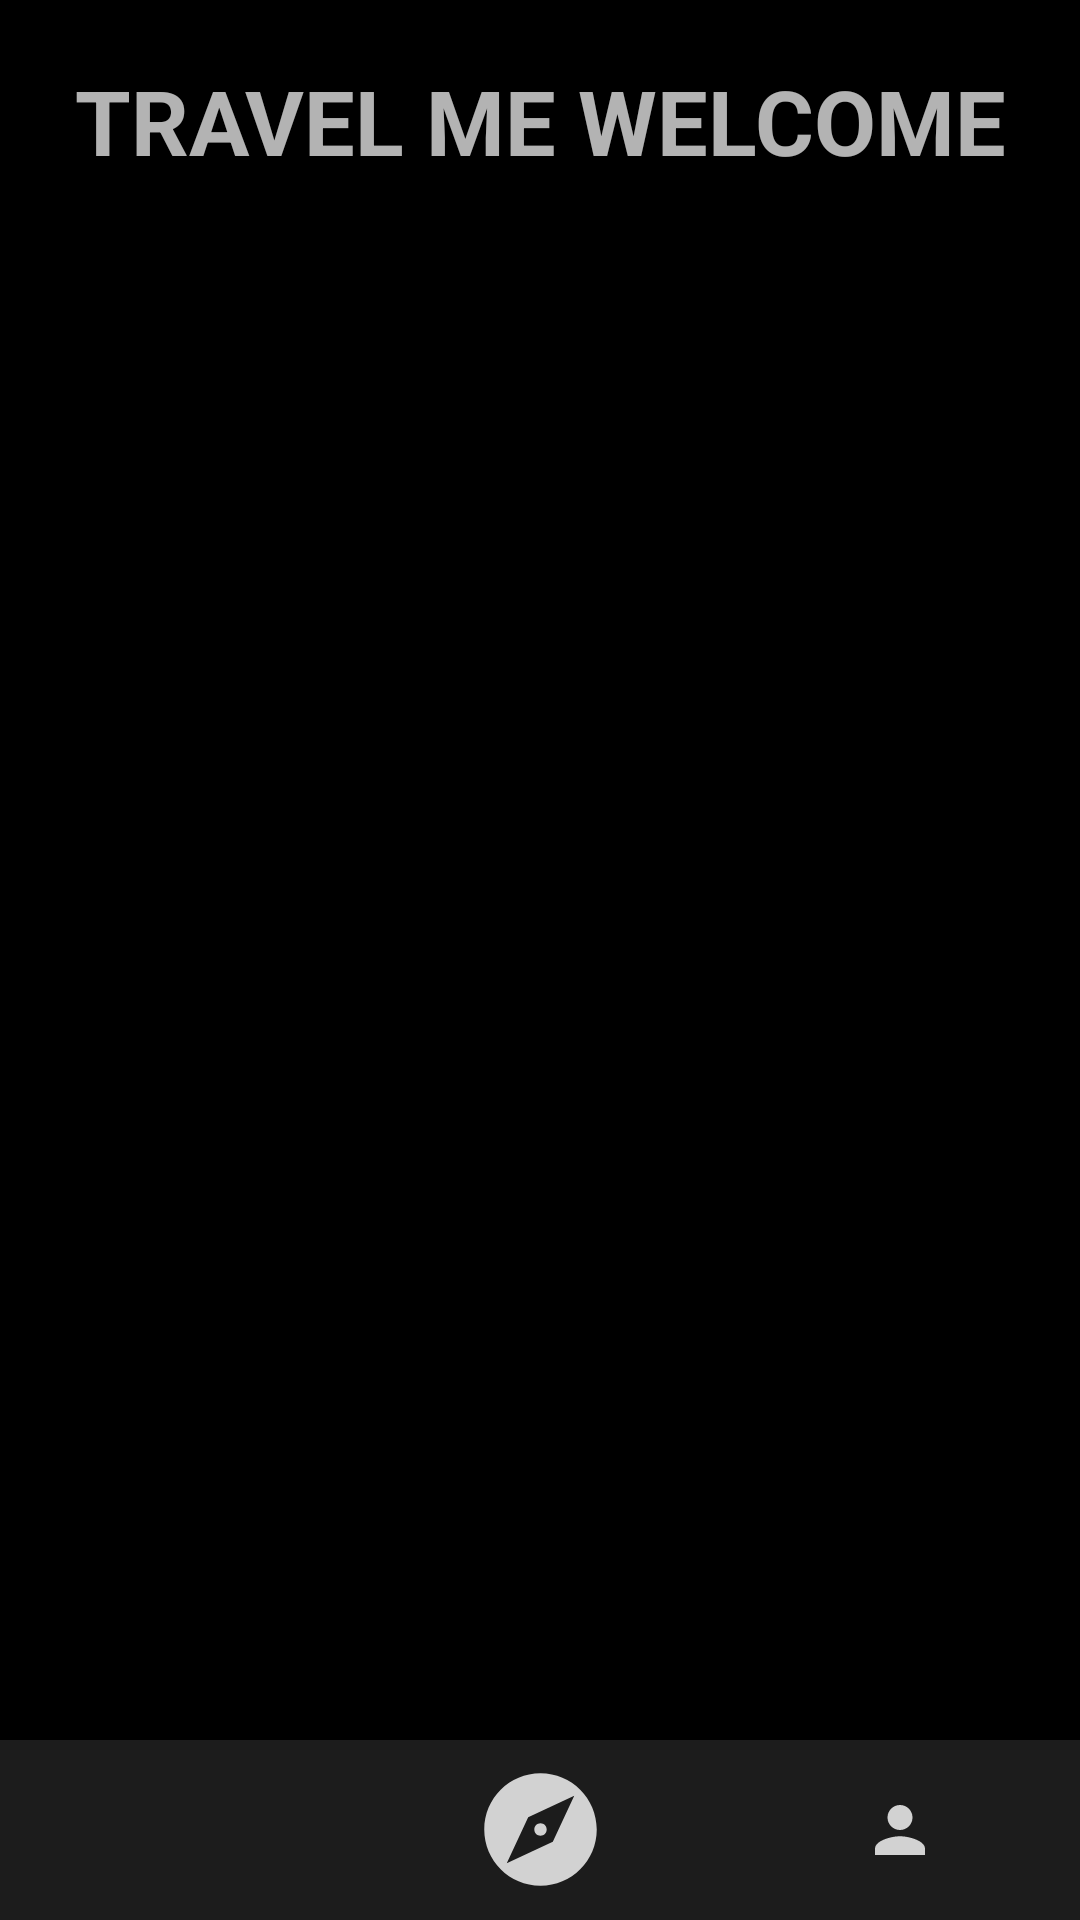

Where to tap for icons on this 1080w x 1920h app screen, as [x,y]:
explore: [540,1829]
user: [900,1830]
